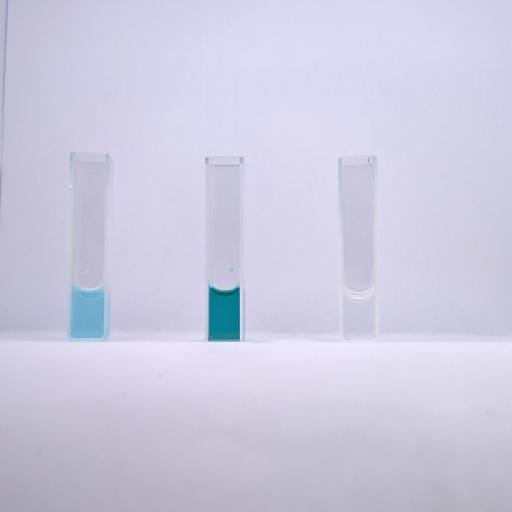cuvette: (66, 150, 112, 343), (335, 153, 381, 343), (203, 155, 246, 343)
liquid: (71, 286, 104, 338), (209, 287, 239, 339), (343, 291, 374, 338)
